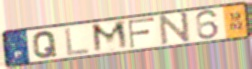6: (195, 9, 221, 41)
F: (127, 16, 157, 49)
L: (63, 26, 92, 58)
M: (90, 19, 131, 54)
N: (159, 10, 192, 46)
Q: (31, 30, 59, 59)
